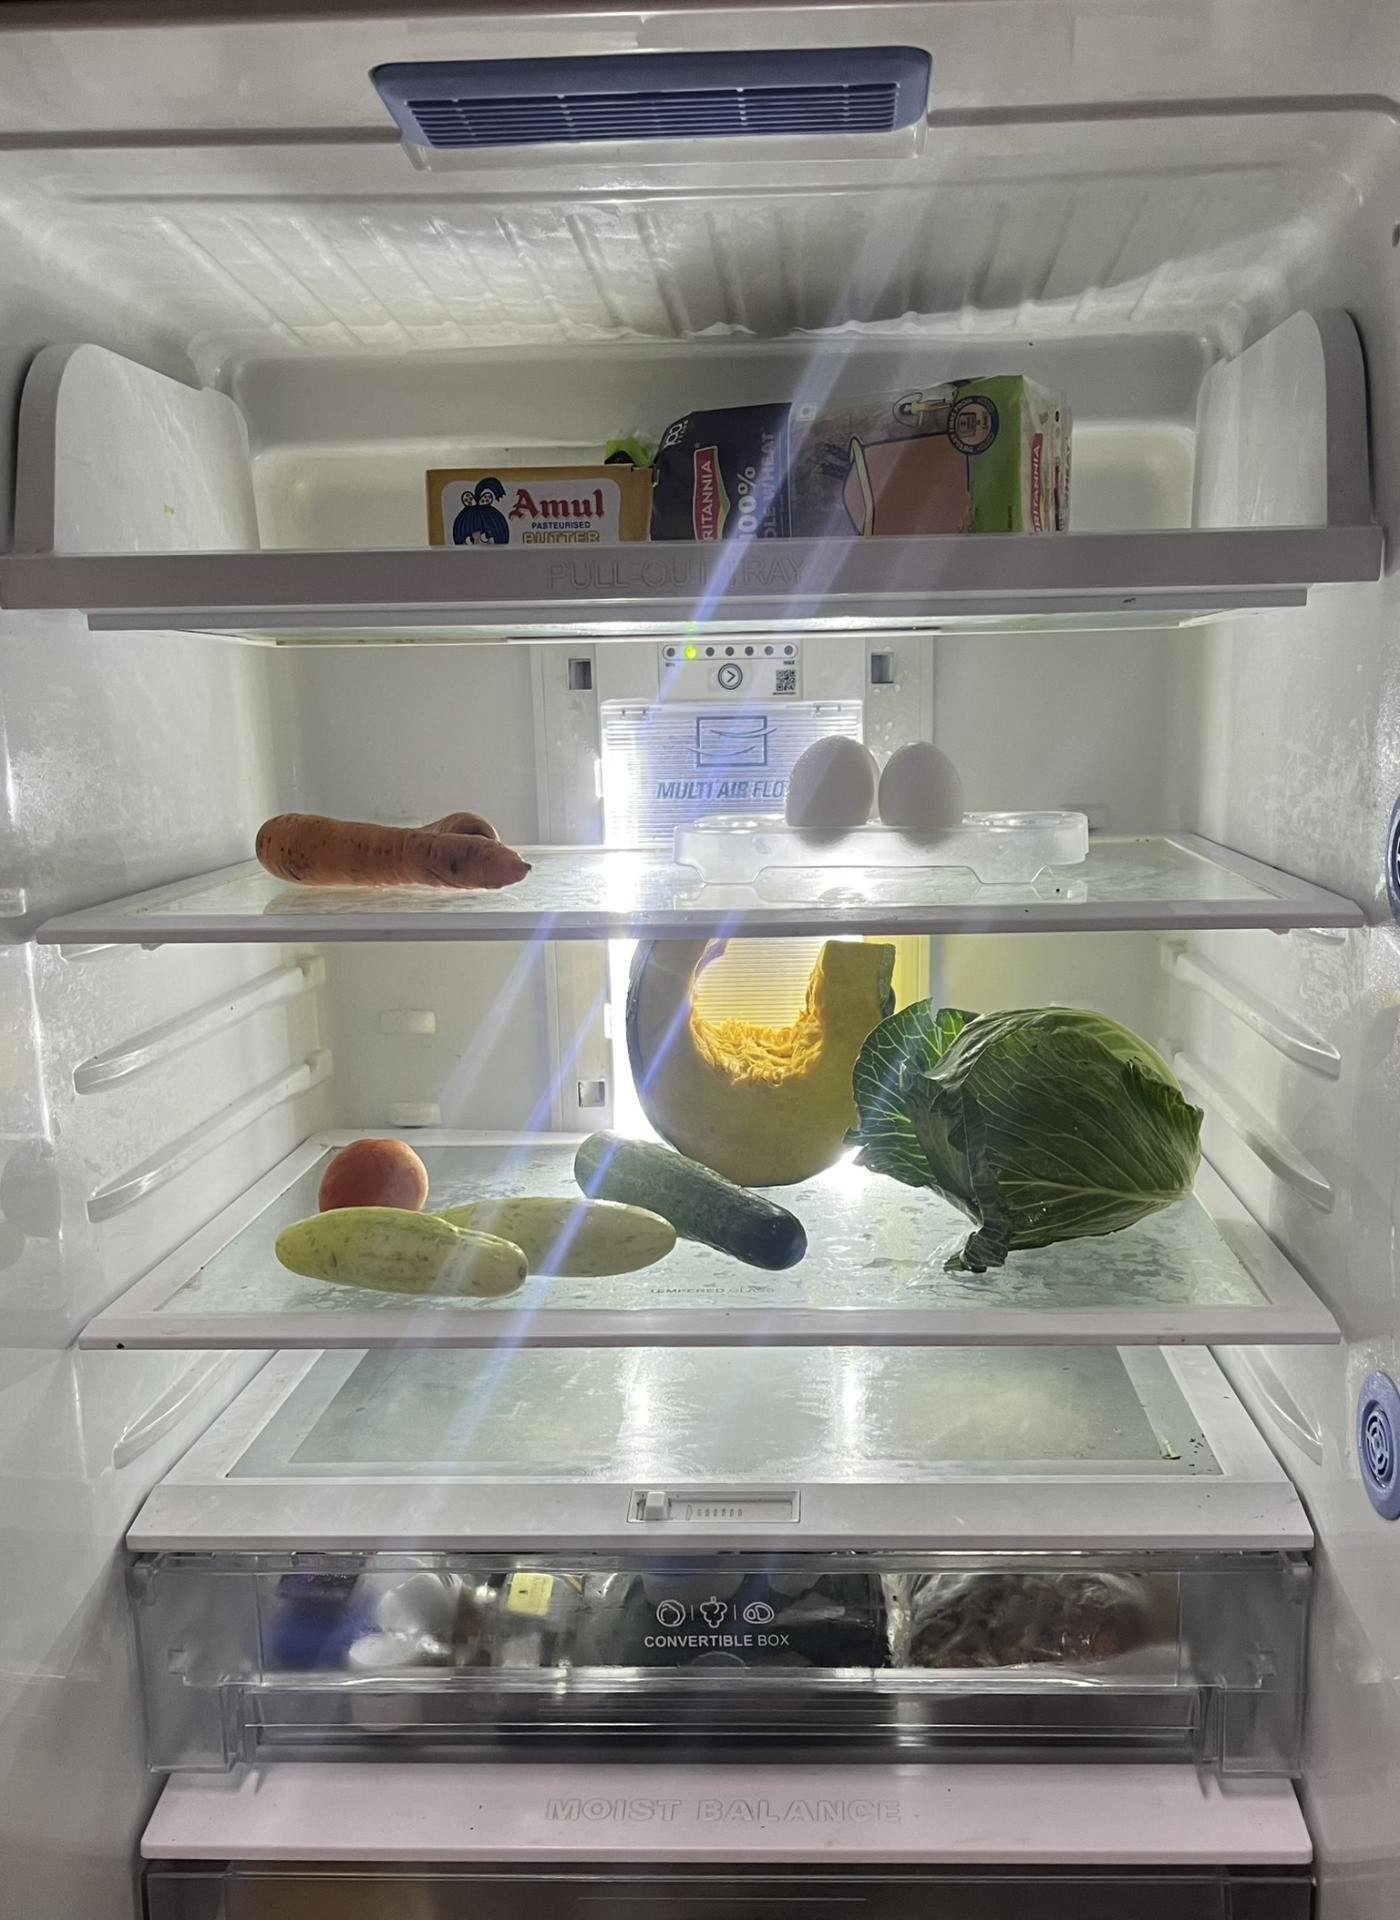bread: (644, 362, 1079, 532)
butter: (422, 453, 662, 550)
cabbage: (836, 987, 1209, 1288)
carrots: (249, 803, 529, 888)
cucumber: (267, 1200, 683, 1306), (568, 1131, 817, 1275)
egg: (778, 721, 966, 844)
pumpkin: (626, 932, 896, 1185)
tomato: (322, 1131, 428, 1231)
